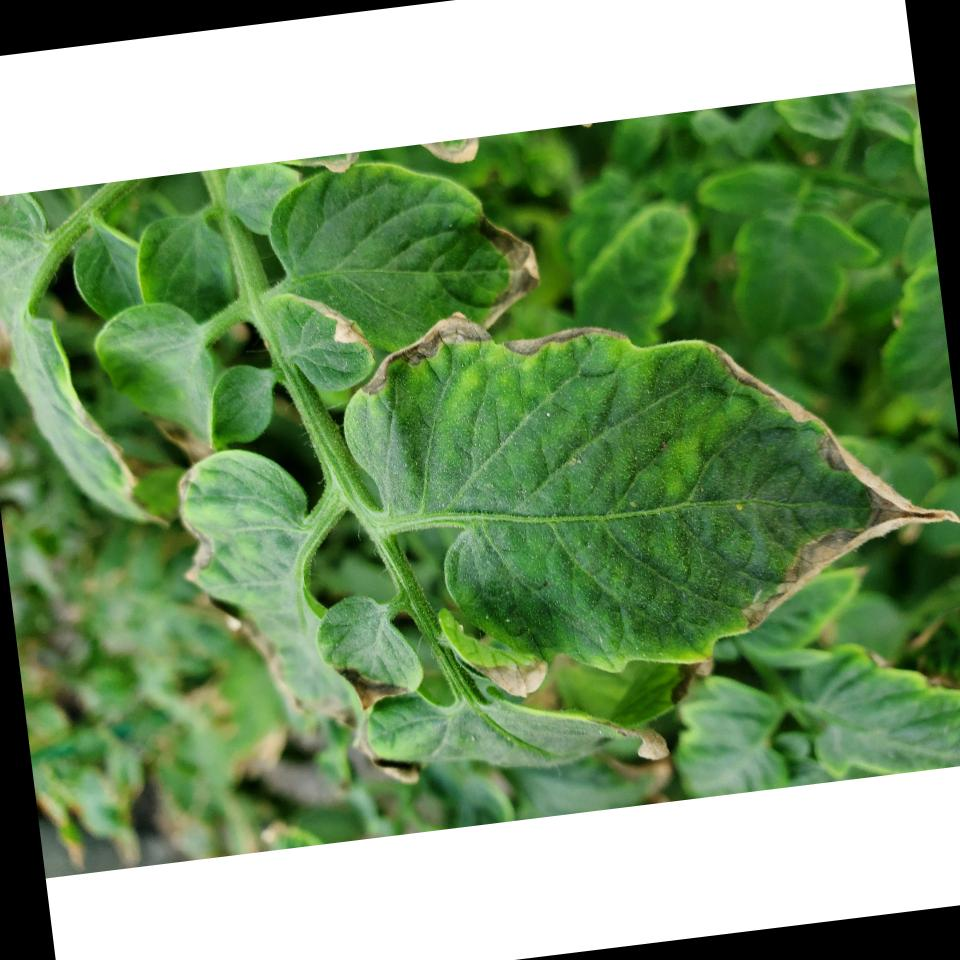tomato_bacterial_blight: (314, 255, 960, 716)
